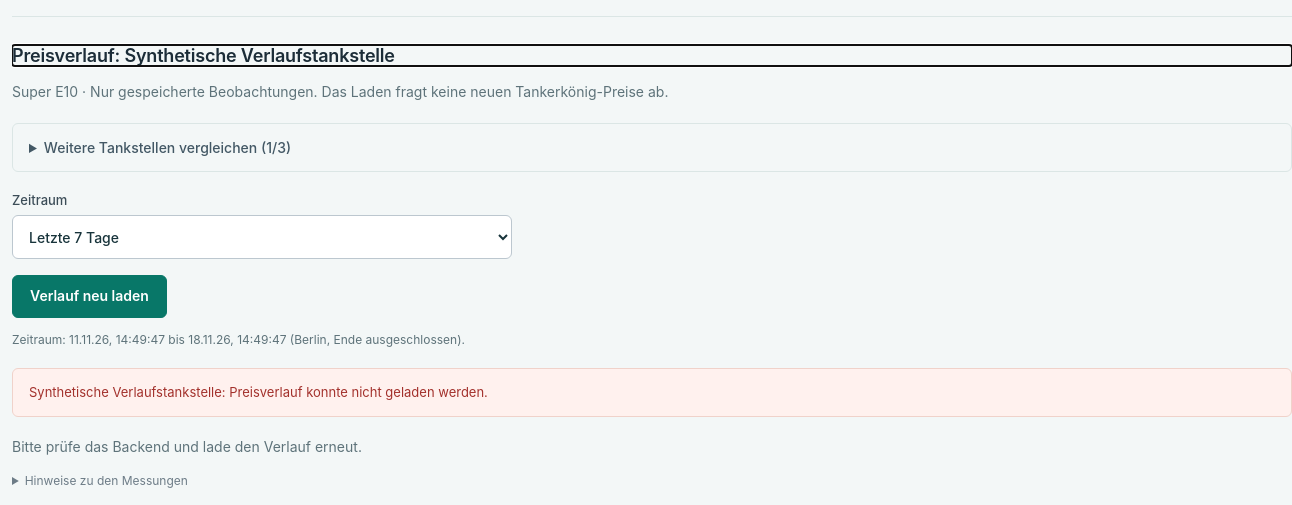
Test: reloads stored observations after a temporary server failure
Expected: the message shows "nicht geladen", top-left (229, 384), bottom-right (488, 400)
Click the button "Verlauf neu laden" at (89, 297), box top-left (12, 275), bottom-right (167, 318)
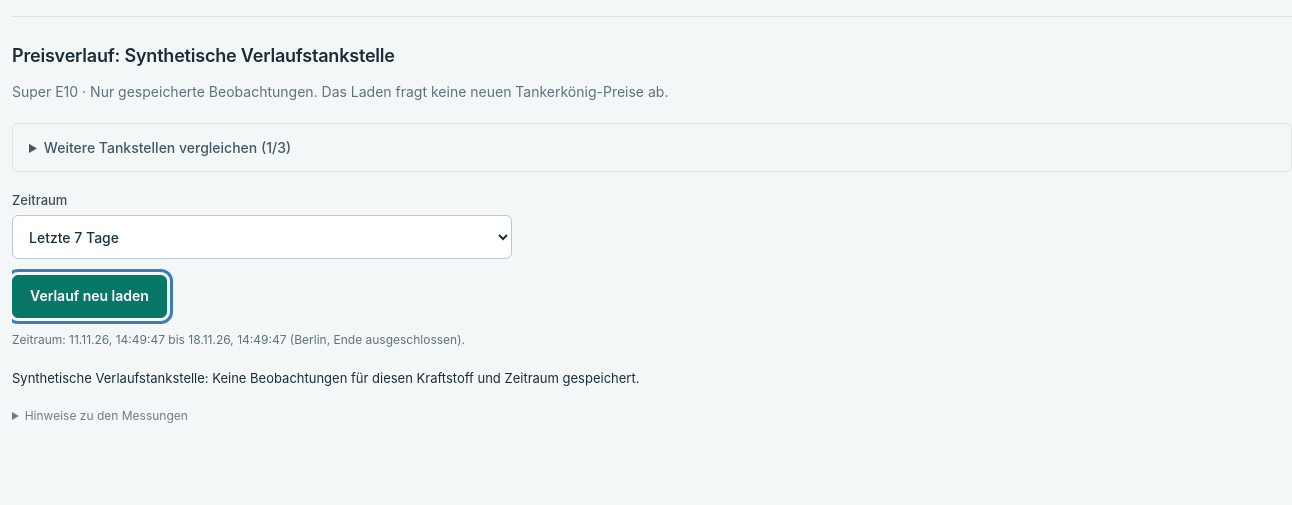
Expected: the text "Keine Beobachtungen für diesen Kraftstoff und Zeitraum gespeichert" is shown, top-left (205, 370), bottom-right (639, 386)
